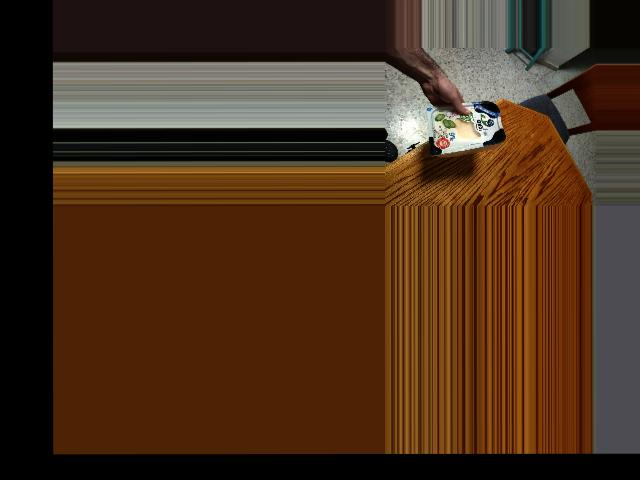cheese: (422, 87, 504, 160)
